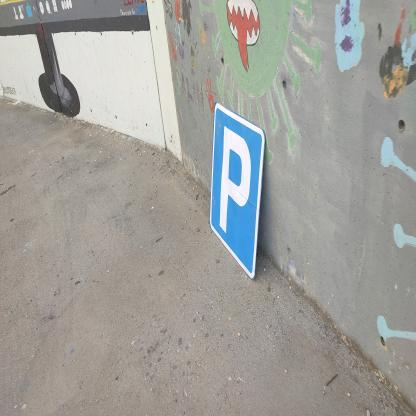parking: (209, 102, 267, 286)
